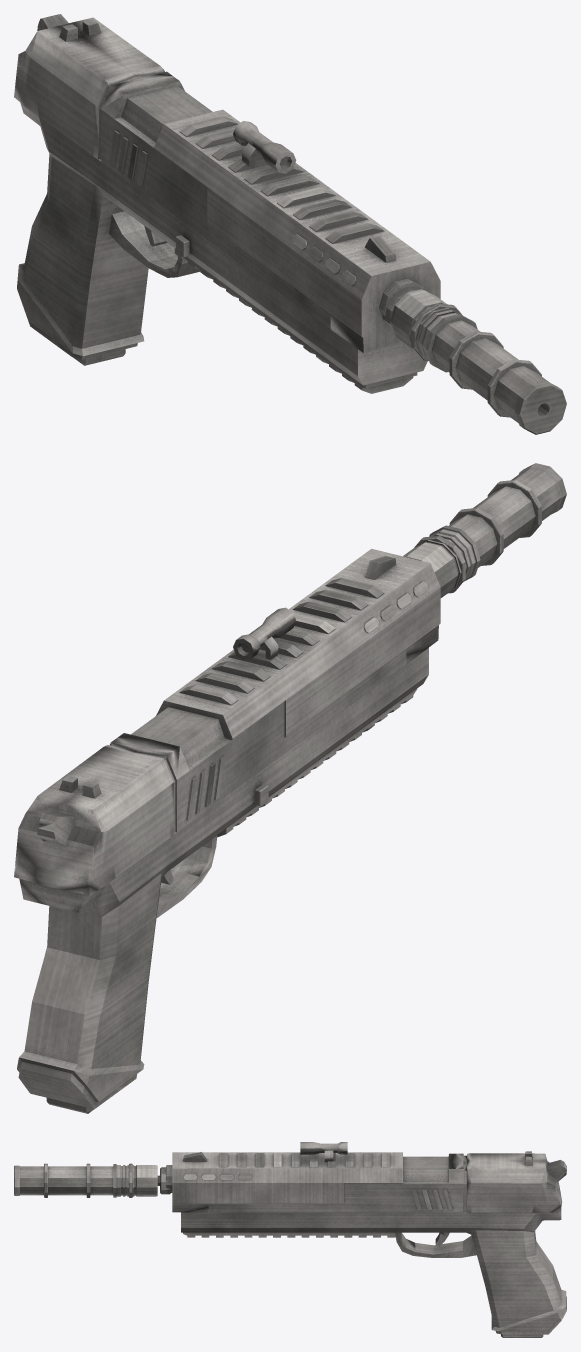
File: silenced_pistol.glb
3 views of the same model, one above another, from view 1: azimuth 30°, elevation 25°; view 2: azimuth 150°, elevation 25°; view 3: azimuth 270°, elevation 25° (orthographic). The views are drawn at different scales.
Visible parts, largest first — view 1: silenced_pistol; view 2: silenced_pistol; view 3: silenced_pistol.
Boxes of the visible parts, x1,y1,x2,y2 form: silenced_pistol: (14,14,566,434); silenced_pistol: (14,463,566,1113); silenced_pistol: (14,1142,566,1337).
Size of the model in its own units: 0.0389 by 0.1557 by 0.41.
Materials: 1 (1 with a texture image).
